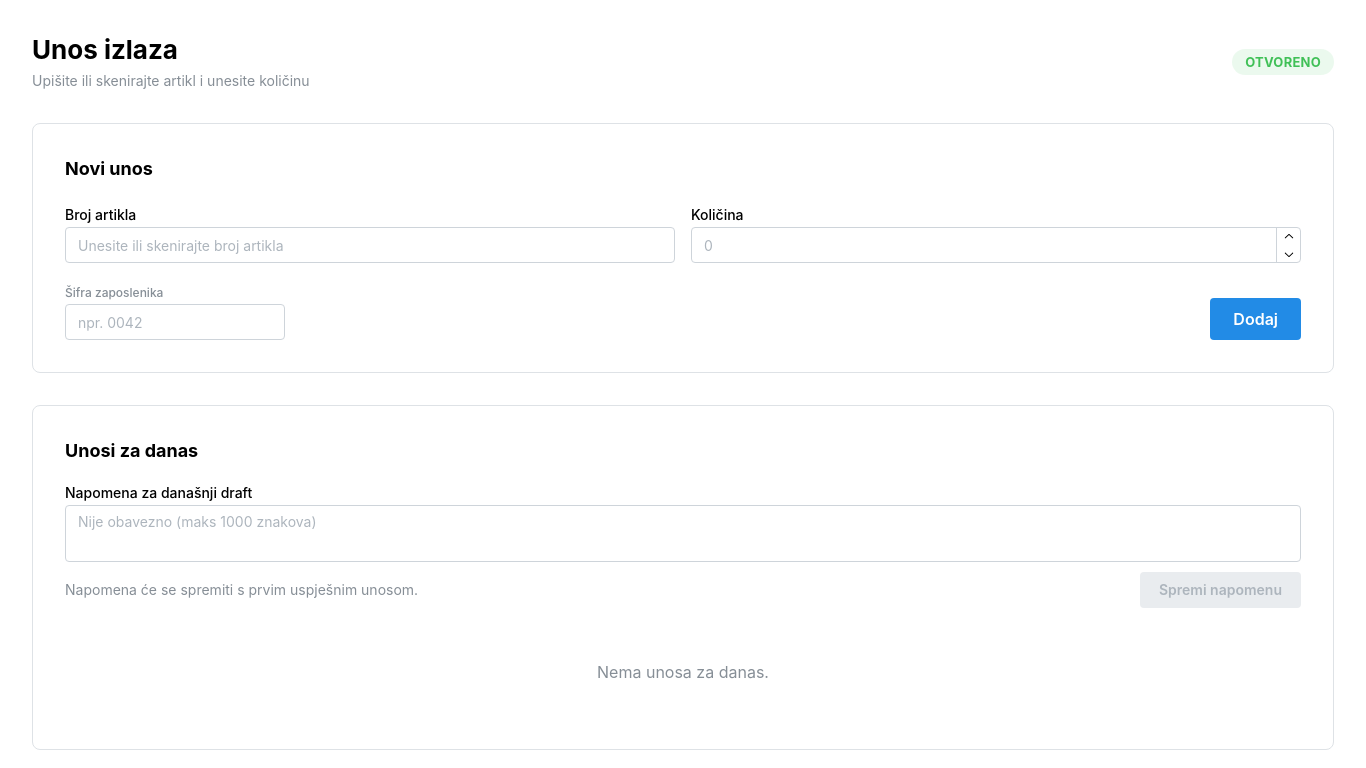
Localized Copy Smoke Tests › DraftEntryPage shows localized errors on empty submit
The width and height of the screenshot is (1366, 768).
Click the button "Dodaj" at {"x": 1256, "y": 319}, box [1210,298,1301,340]
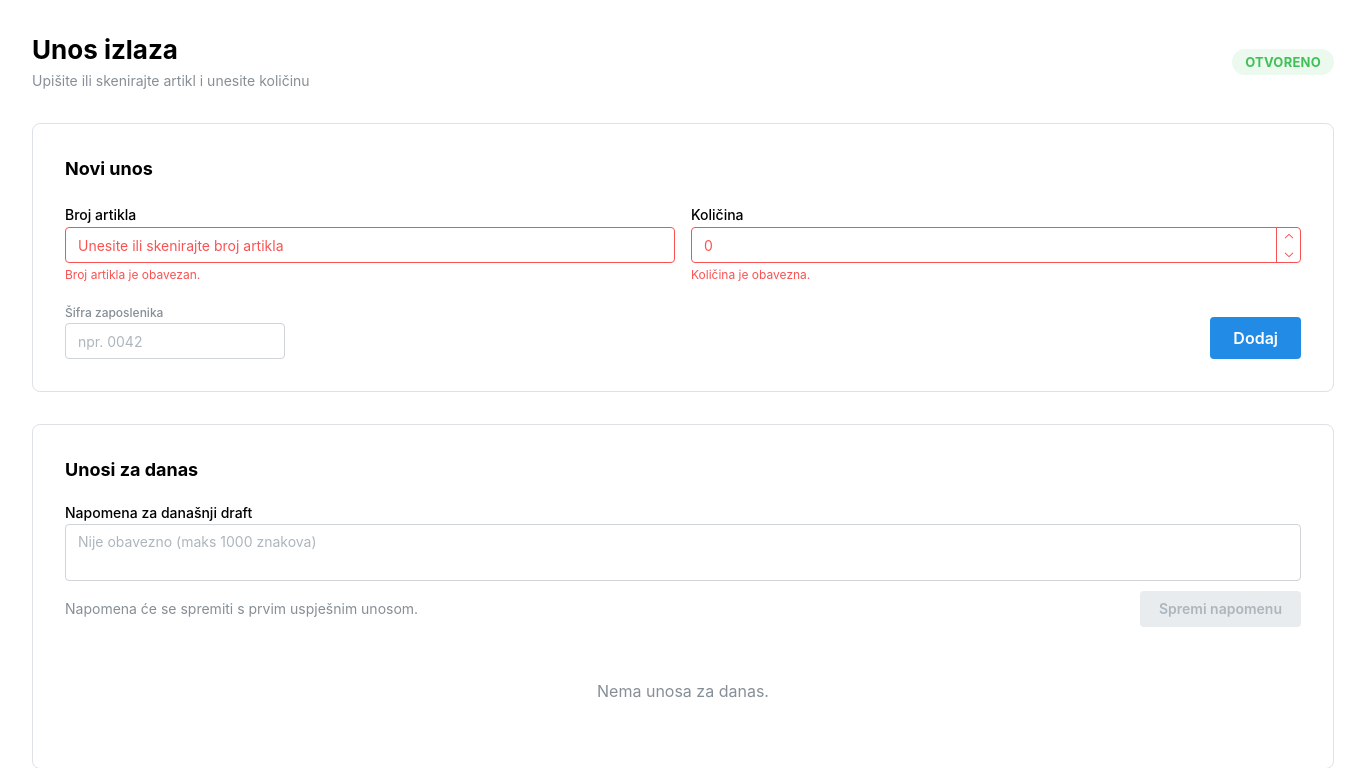
Check: the text "Broj artikla je obavezan." is shown, box [65,267,200,282]
Check: the text "Količina je obavezna." is shown, box [691,267,810,282]
